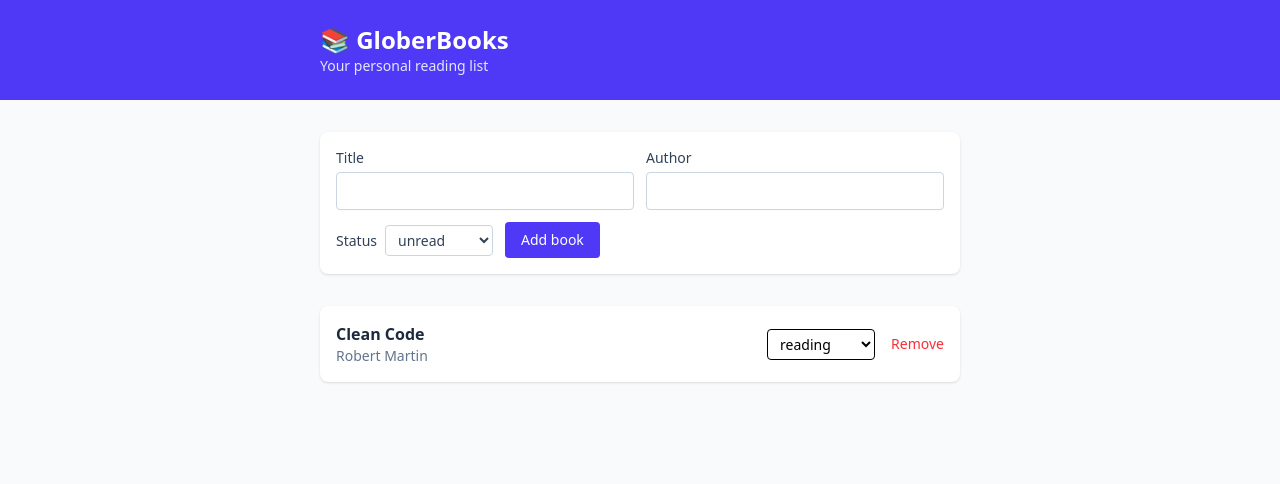
Test case: App mutation error feedback (tasks 2.1 + 2.2) › shows the error banner when a status change fails and keeps the book list stable
Select "completed" in the dropdown named "Status of Clean Code" at (821, 344), box [767, 328, 875, 360]
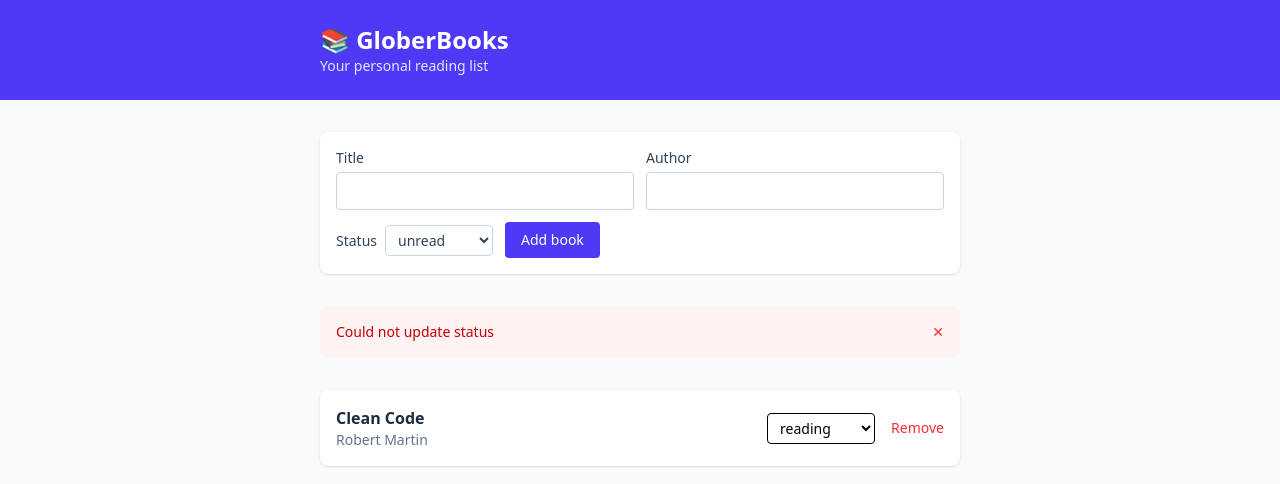
expect the text "Clean Code" is shown: met, box [336, 407, 424, 429]
expect the message "Could not update status ✕" is shown: met, box [320, 306, 960, 358]
expect the message shows "Could not update status": met, box [336, 322, 494, 341]
